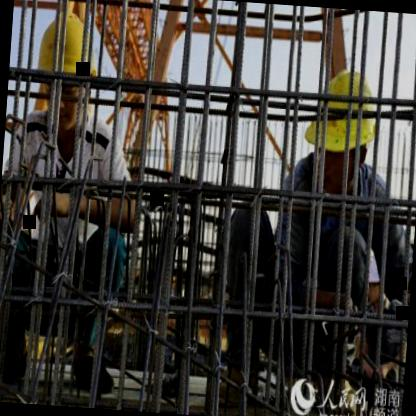helmet: (300, 65, 382, 202), (30, 7, 106, 140)
